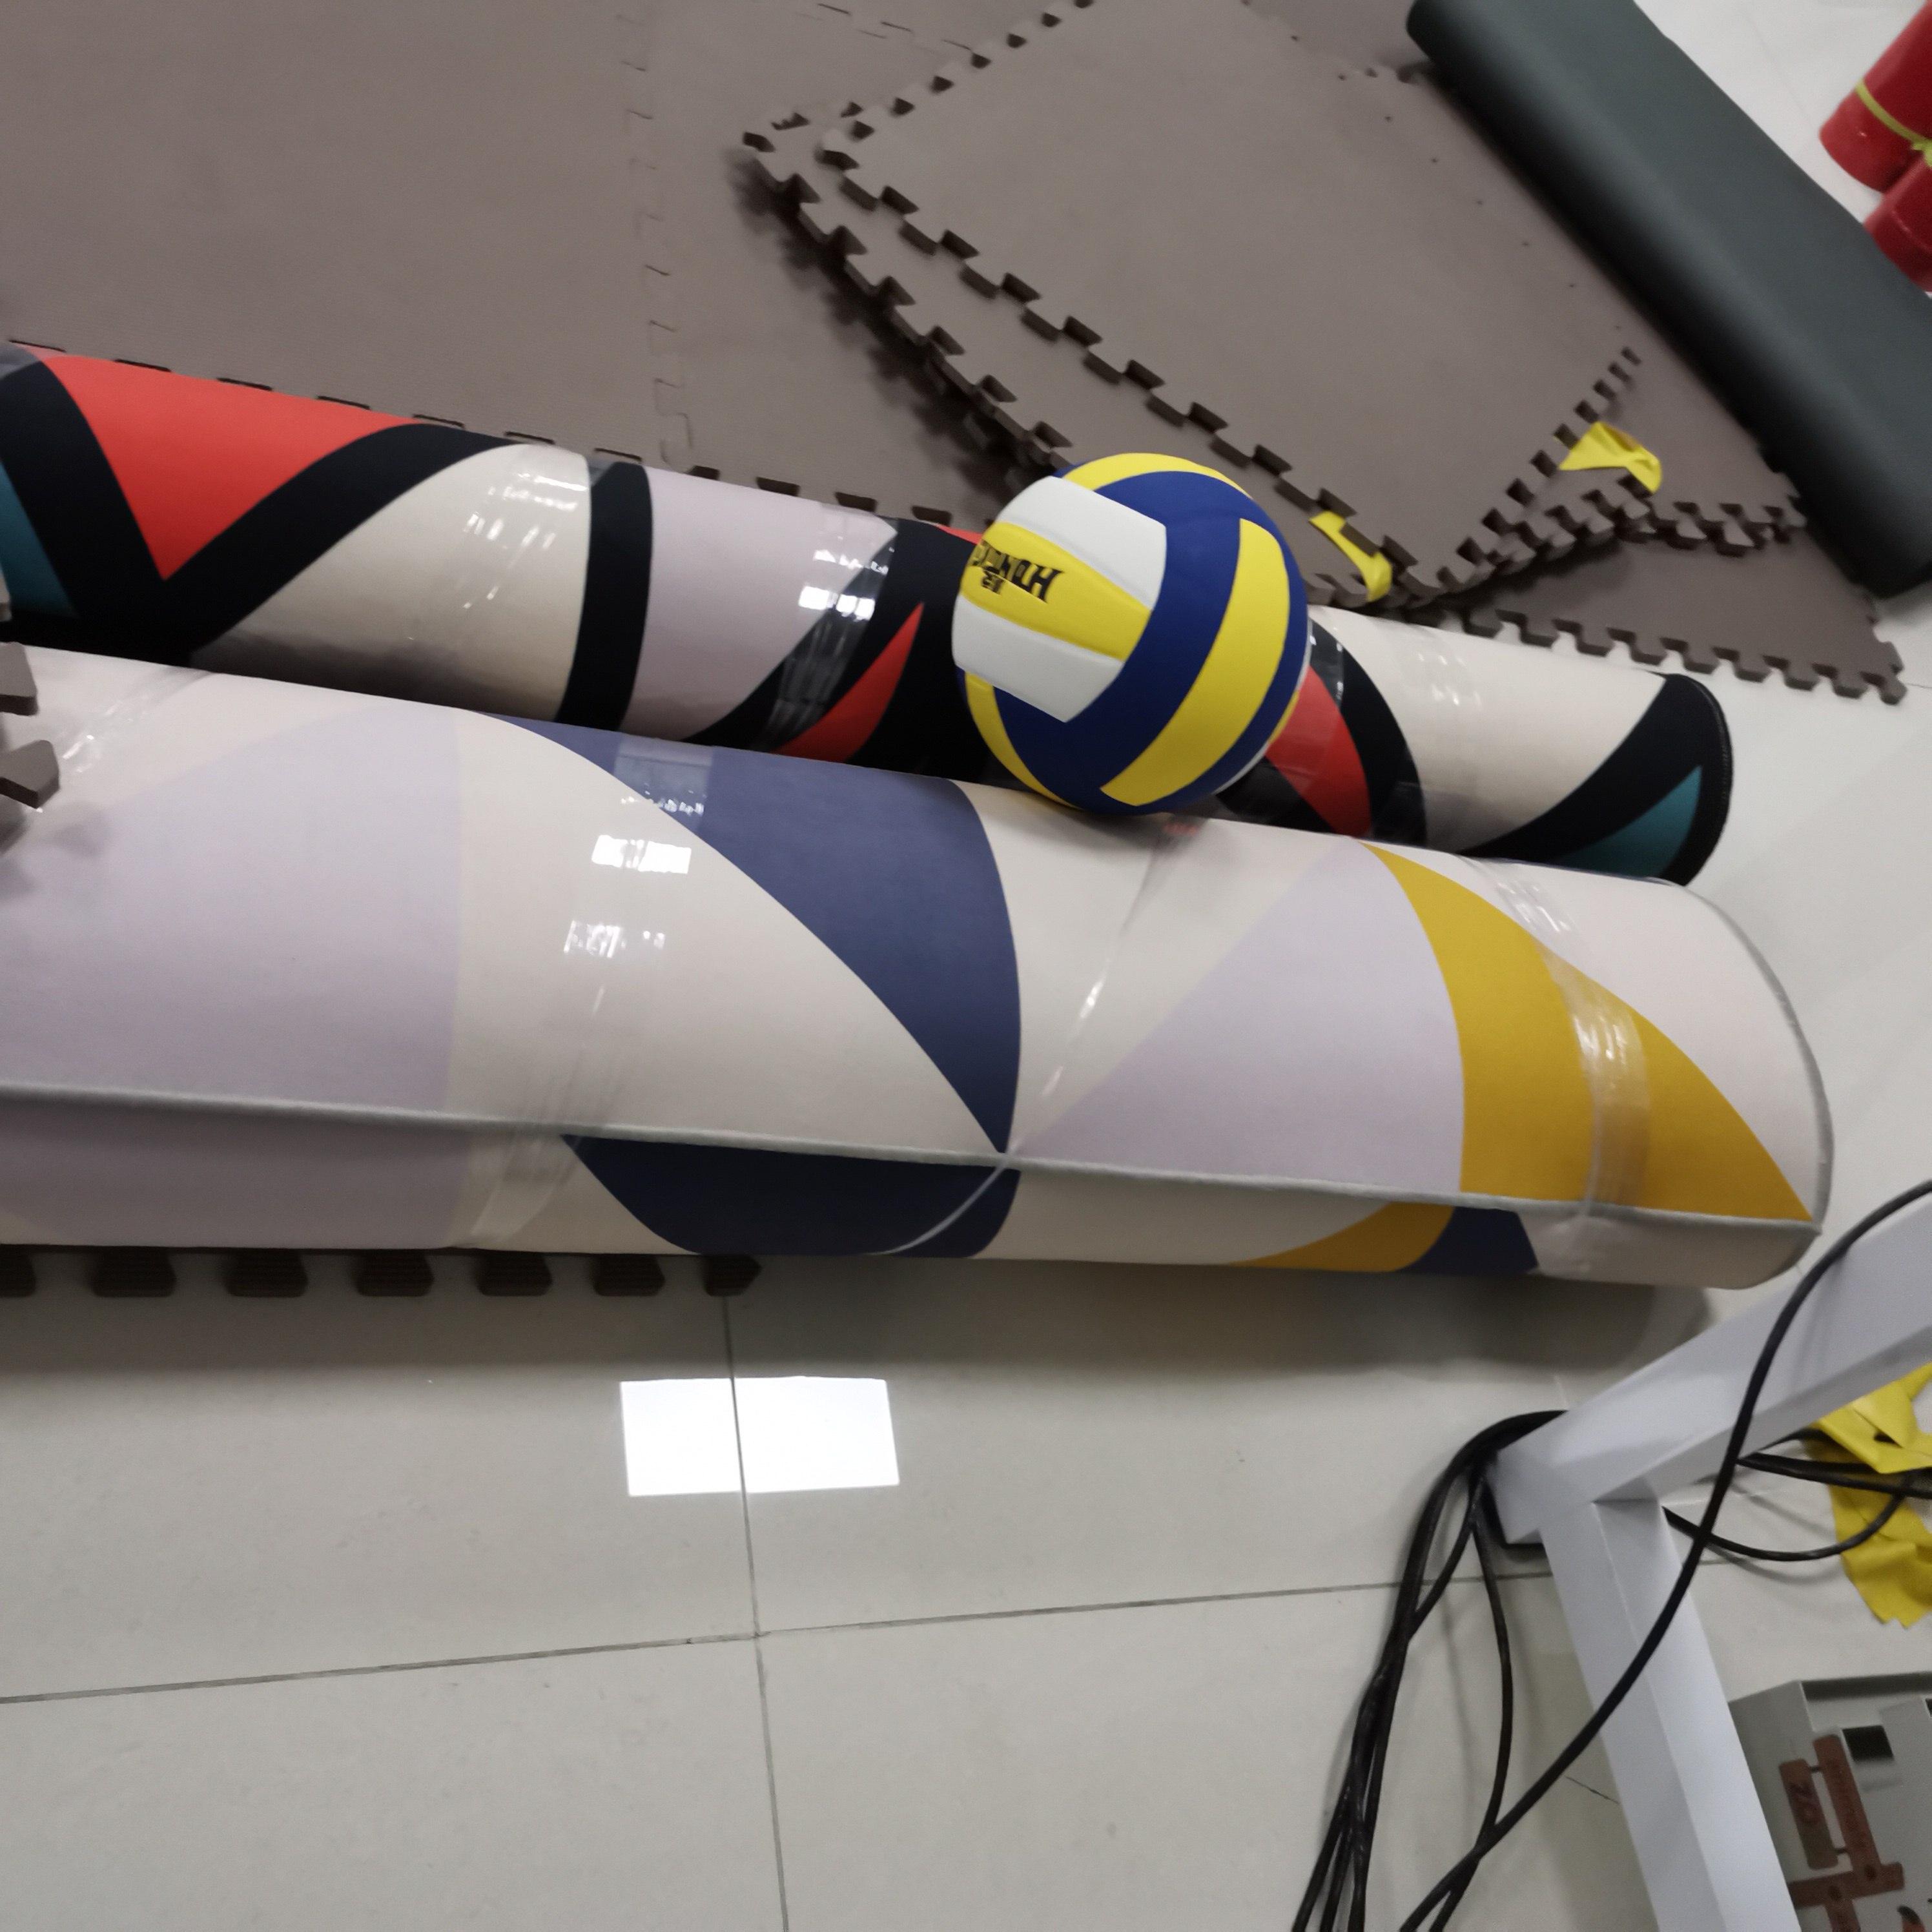volleyball: (961, 446, 1313, 824)
